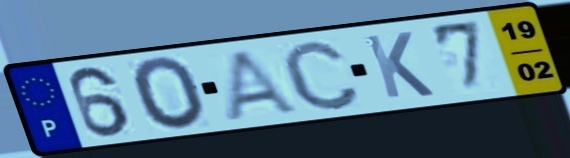6: (67, 63, 133, 140)
7: (428, 18, 487, 95)
A: (222, 46, 305, 121)
C: (277, 37, 365, 113)
K: (360, 29, 438, 101)
O: (129, 54, 210, 134)
